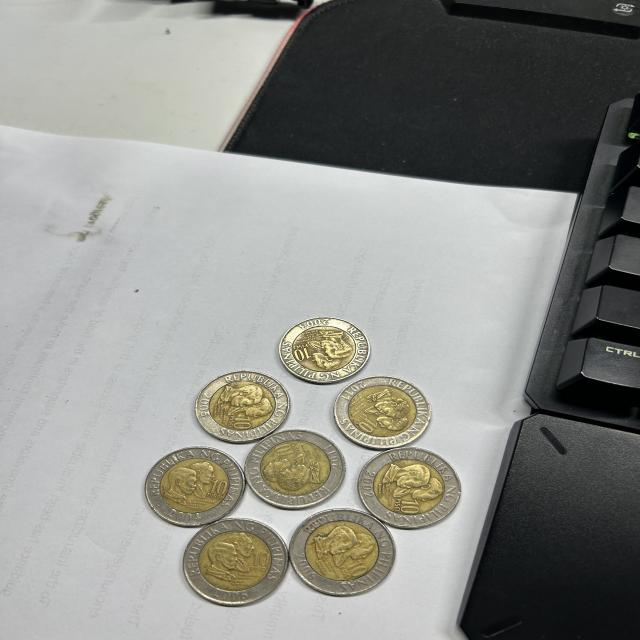10_Old_Front: (397, 498, 423, 514), (249, 551, 273, 568), (209, 478, 231, 496), (347, 560, 368, 577), (273, 442, 295, 458), (233, 416, 254, 431), (292, 346, 312, 360), (359, 418, 377, 433)
